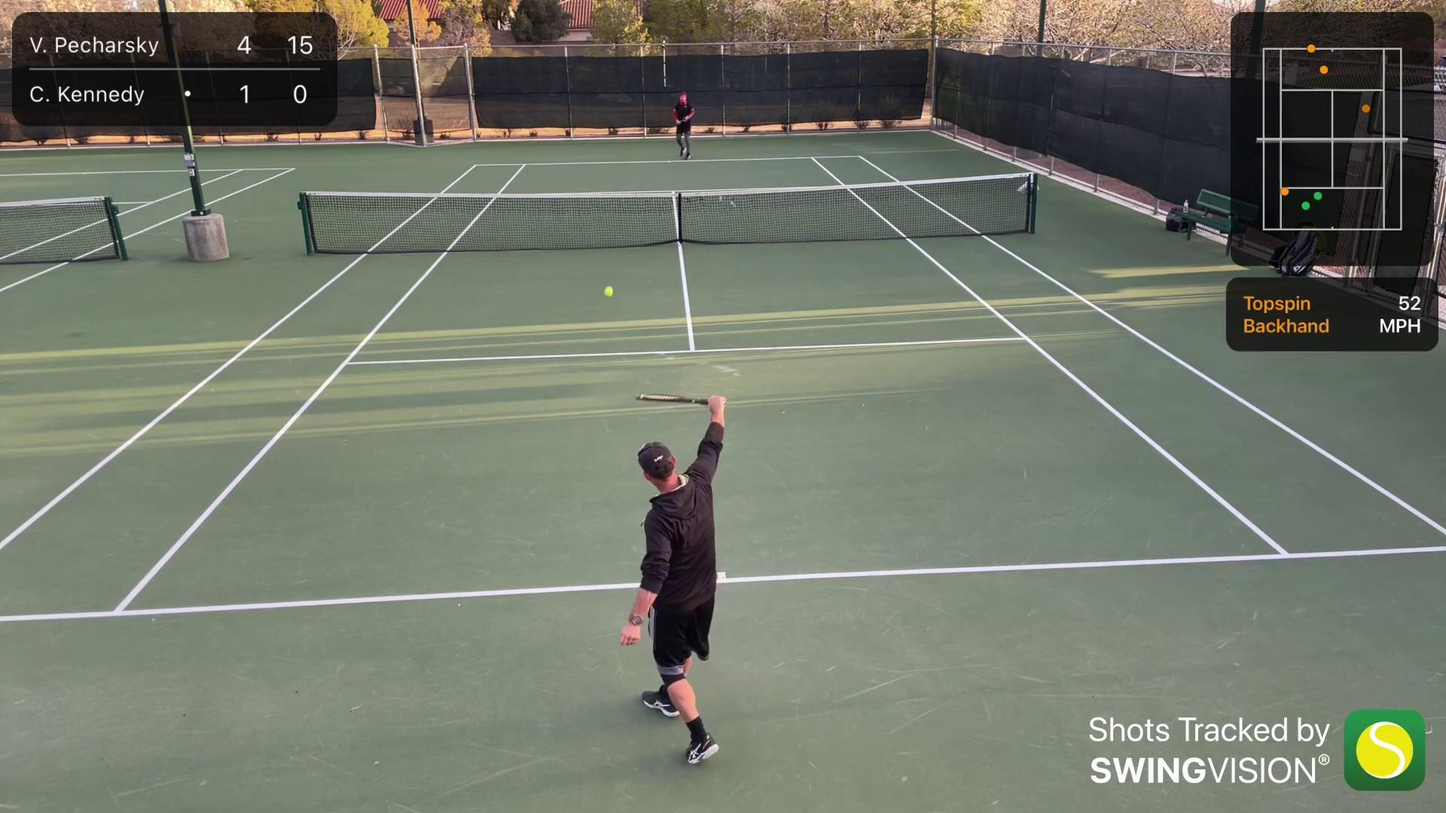ball: (601, 285, 618, 299)
